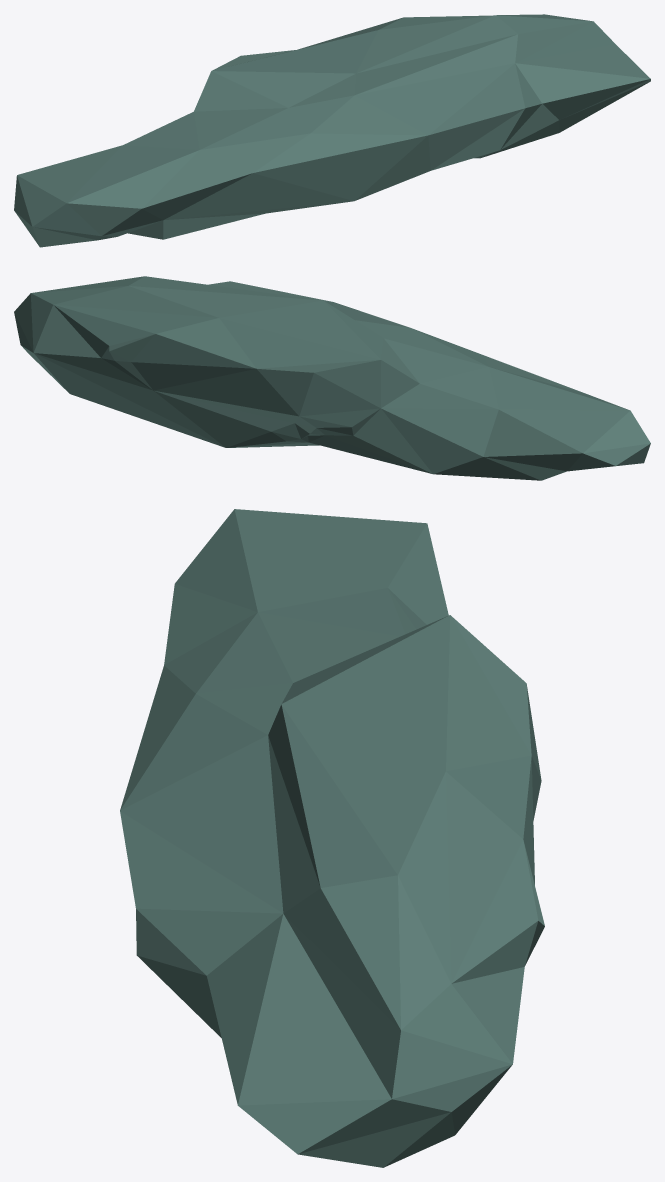
3 renders of one model, top to bottom at view 1: azimuth 30°, elevation 25°; view 2: azimuth 150°, elevation 25°; view 3: azimuth 270°, elevation 25°, orthographic. The views are drawn at different scales.
Visible parts, largest first — view 1: 石头3; view 2: 石头3; view 3: 石头3.
Boxes of the visible parts, bbox=[...] form: 石头3: bbox=[14, 14, 650, 247]; 石头3: bbox=[14, 276, 650, 480]; 石头3: bbox=[120, 509, 544, 1167].
Size of the model in its own units: 135 by 26.54 by 40.36.
